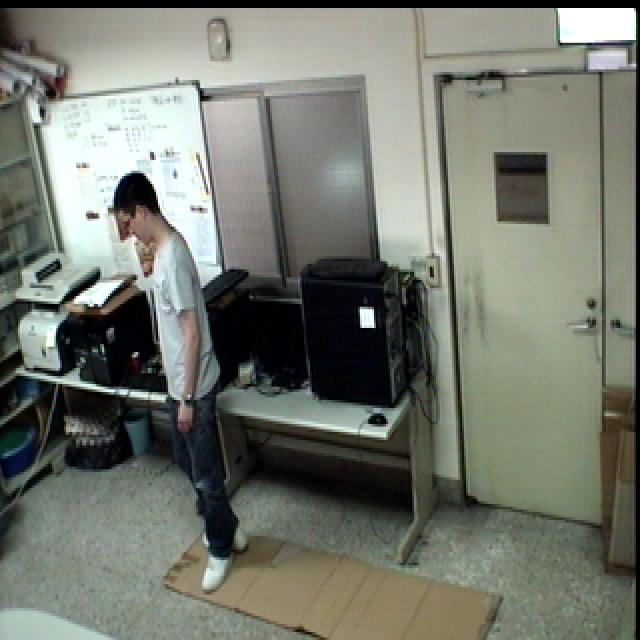stand: (105, 169, 258, 598)
